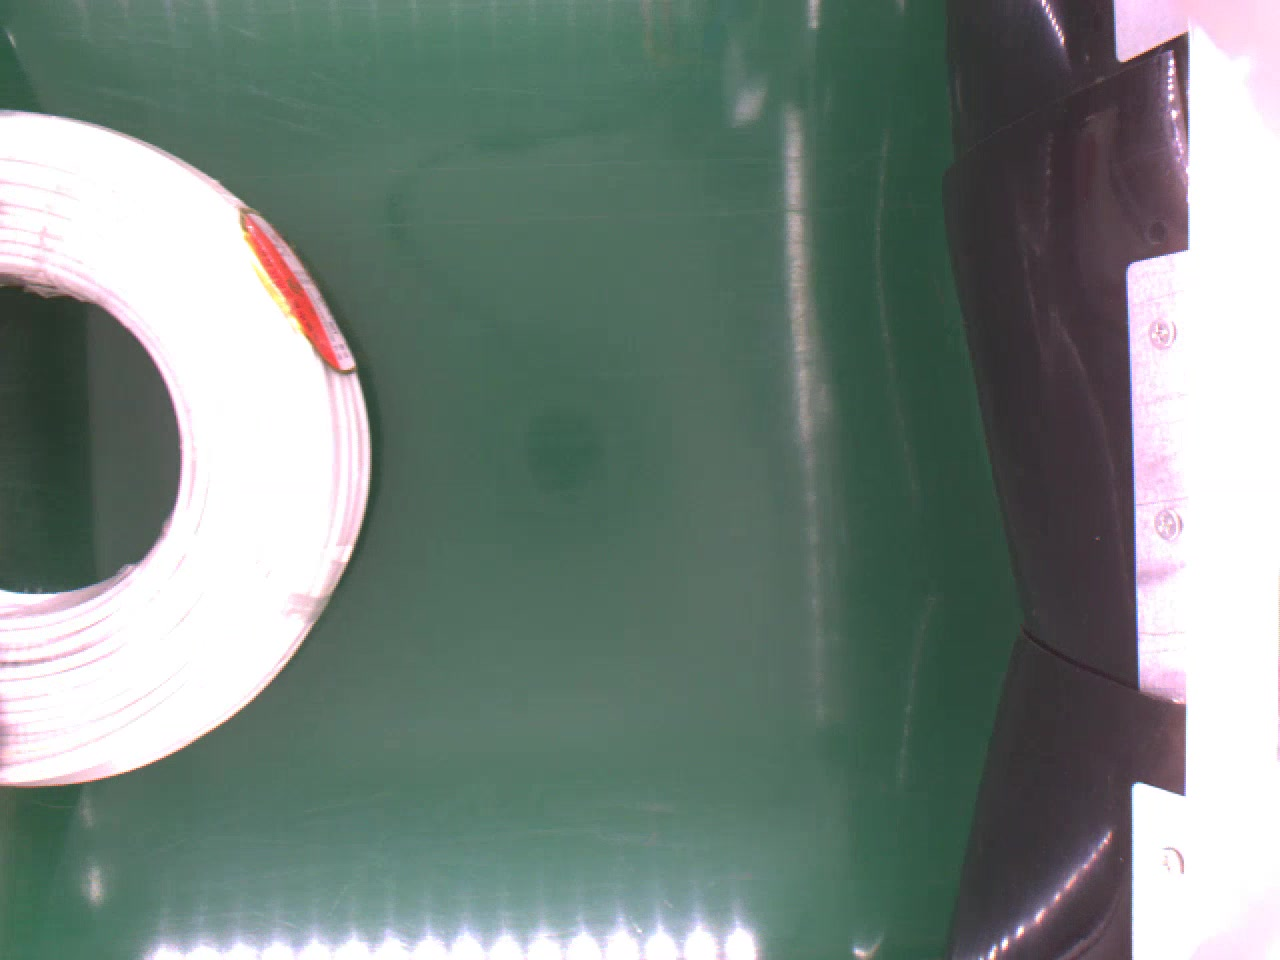white: (0, 106, 378, 790)
